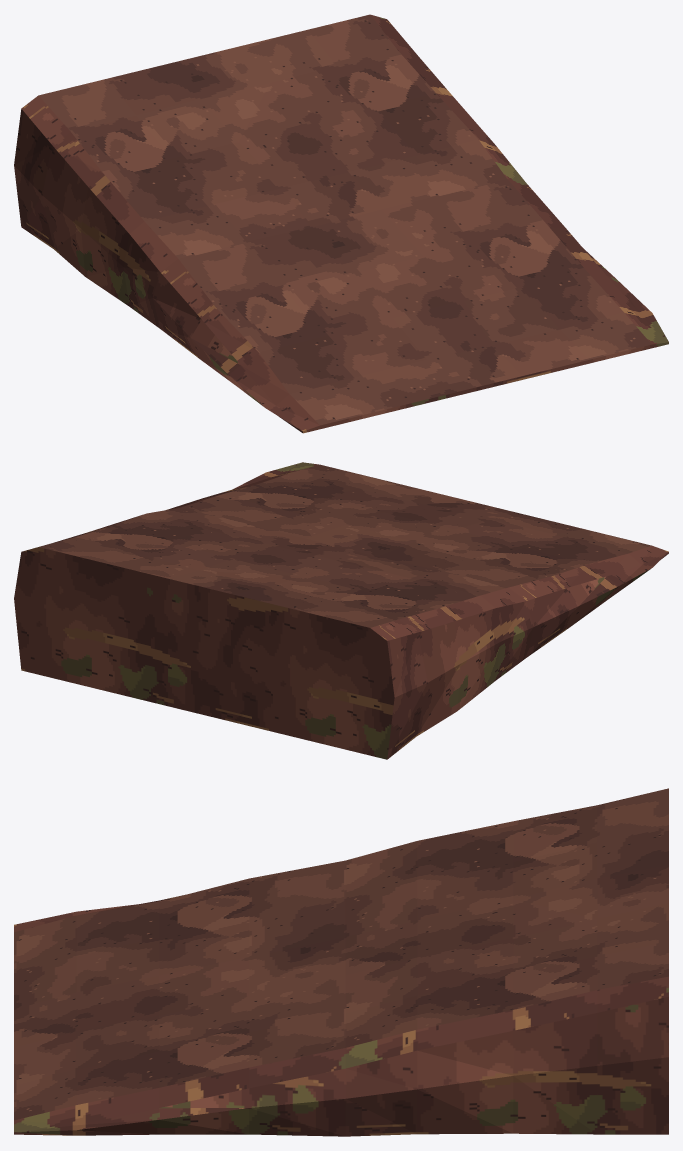
Rendered from SM_AN07_EarthRamp.fbx.
3 renders of one model, top to bottom at view 1: azimuth 30°, elevation 25°; view 2: azimuth 150°, elevation 25°; view 3: azimuth 270°, elevation 25°, orthographic. The views are drawn at different scales.
Visible parts, largest first — view 1: AN07a_Floor, AN07a_Earth; view 2: AN07a_Earth, AN07a_Floor; view 3: AN07a_Floor, AN07a_Earth.
Part boxes in pixels (<box>): AN07a_Floor: <box>38,14,651,425</box>; AN07a_Earth: <box>14,14,668,433</box>; AN07a_Earth: <box>14,462,668,759</box>; AN07a_Floor: <box>39,464,651,627</box>; AN07a_Floor: <box>14,788,668,1120</box>; AN07a_Earth: <box>14,790,668,1136</box>.
Bounding box in the file's own units: 3.2 × 1 × 4.
